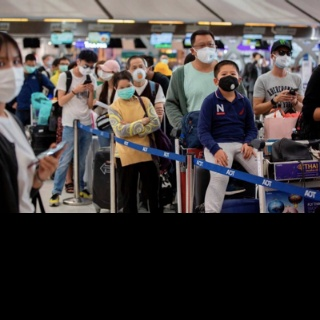with_mask: (0, 55, 26, 104), (218, 69, 240, 92), (196, 40, 216, 65), (275, 48, 292, 70), (116, 83, 135, 100), (130, 64, 147, 82), (78, 62, 95, 76), (99, 68, 113, 83), (24, 62, 36, 74), (57, 62, 70, 72), (160, 56, 168, 65), (46, 57, 52, 65)
